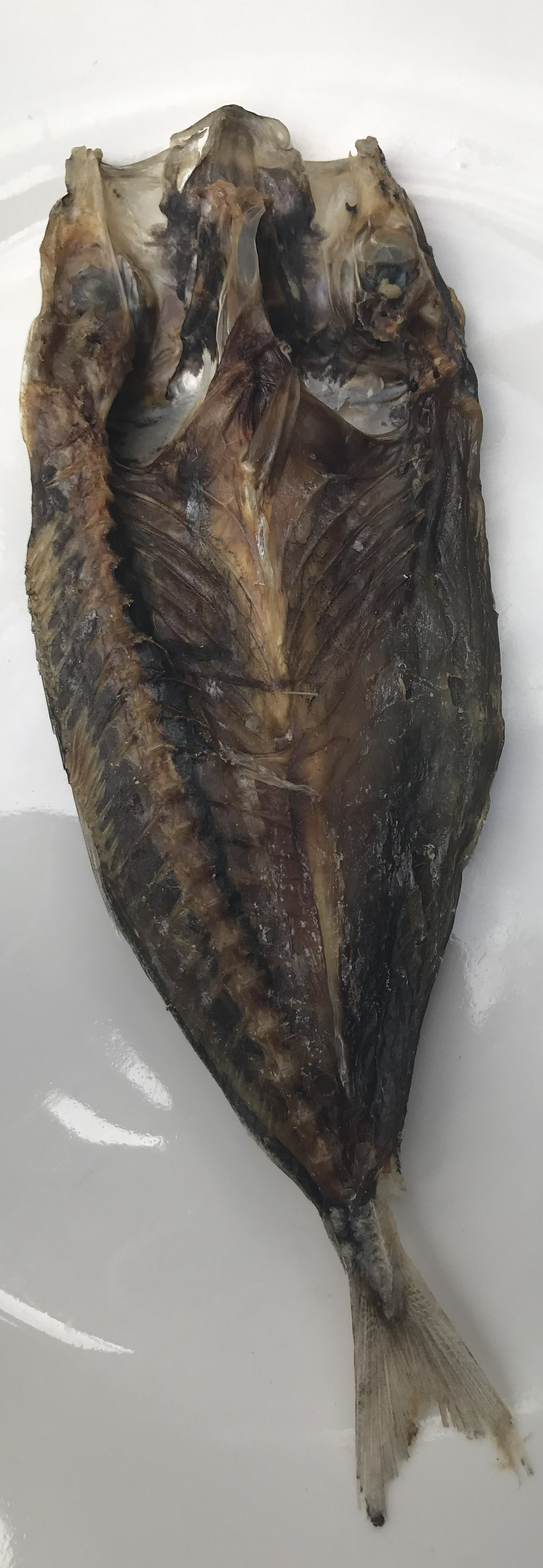barol_dried_: (25, 105, 533, 1528)
